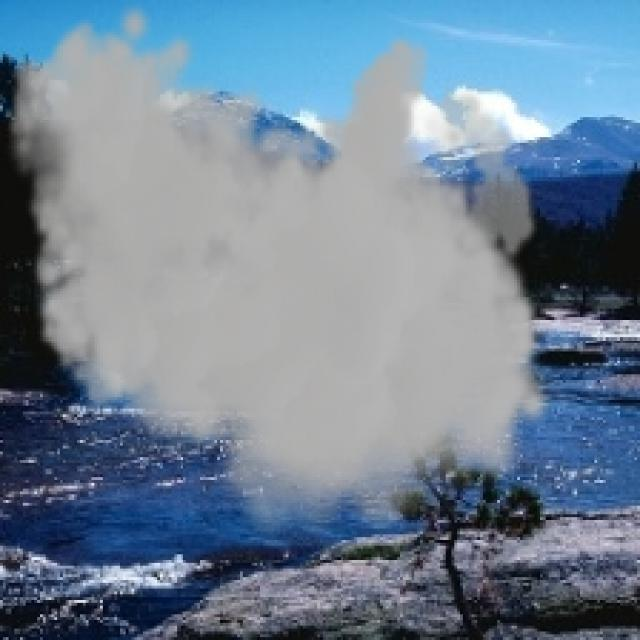Smoke: (5, 0, 555, 552)
